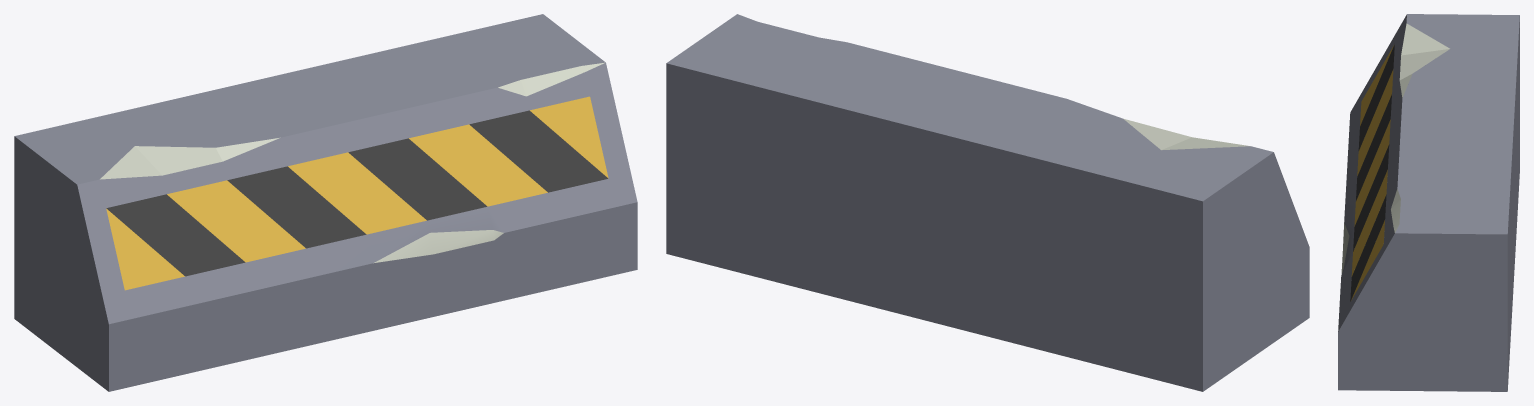
Rendered from Barrier_Single.glb.
3 views of the same model, side by side, from view 1: azimuth 30°, elevation 25°; view 2: azimuth 150°, elevation 25°; view 3: azimuth 270°, elevation 25° (orthographic). The views are drawn at different scales.
Parts seen in each view (by area): view 1: Barrier_Single; view 2: Barrier_Single; view 3: Barrier_Single.
Part boxes in pixels (left/top/right/bottom): Barrier_Single: left=14, top=14, right=637, bottom=391; Barrier_Single: left=666, top=14, right=1309, bottom=391; Barrier_Single: left=1338, top=14, right=1519, bottom=391.
Size of the model in its own units: 1.89 by 0.6281 by 0.6569.
